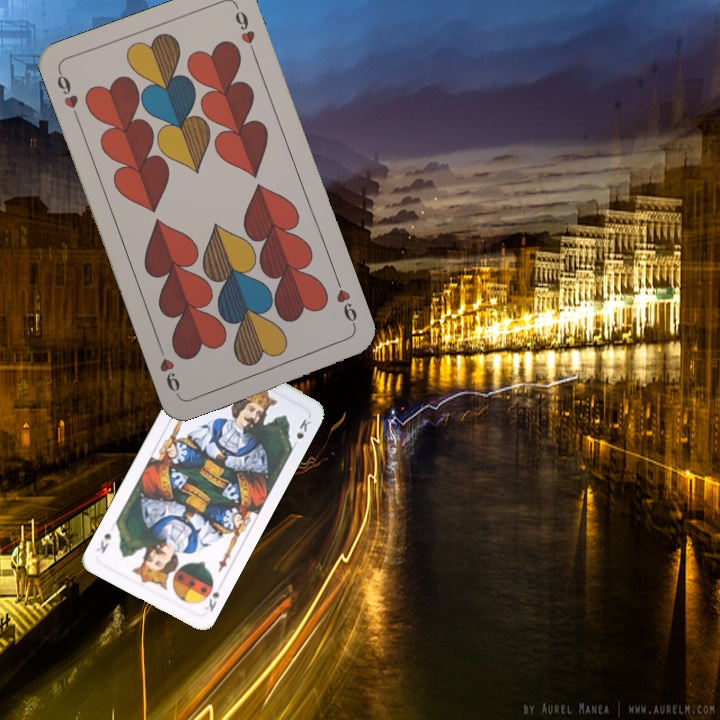H9: (52, 67, 83, 124), (331, 274, 360, 331)
SK: (201, 588, 222, 614)
